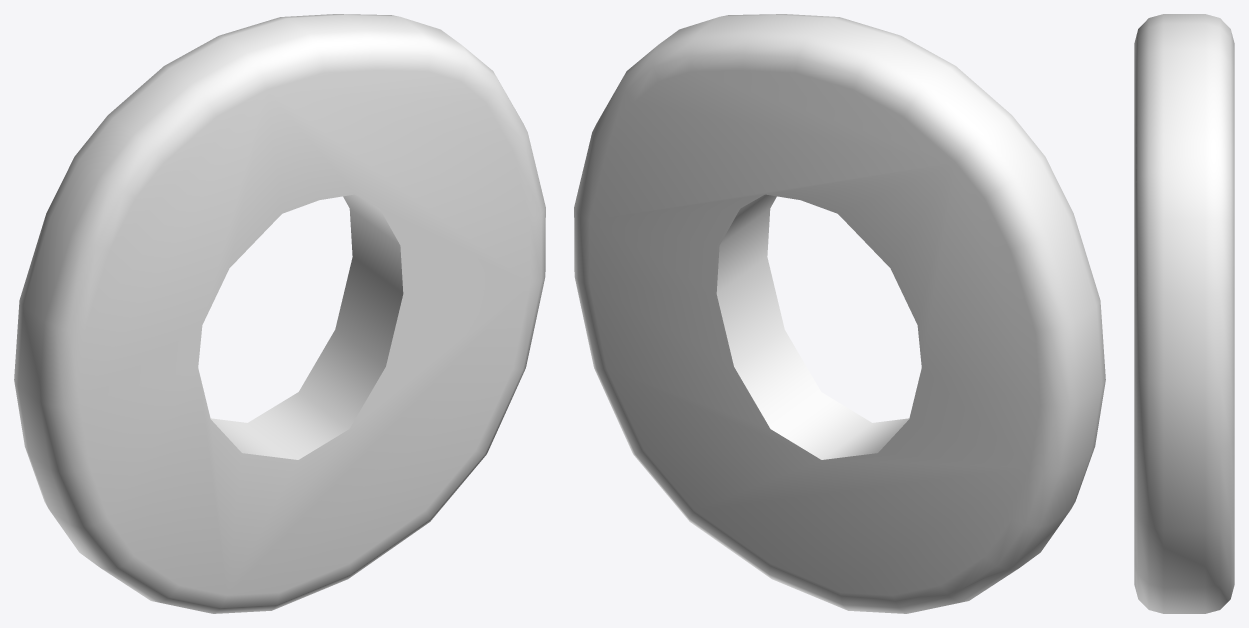
The model's file is NumberZero 2.fbx.
3 views of the same model, side by side, from view 1: azimuth 30°, elevation 25°; view 2: azimuth 150°, elevation 25°; view 3: azimuth 270°, elevation 25° (orthographic).
Visible parts, largest first — view 1: Vert.022; view 2: Vert.022; view 3: Vert.022.
Part boxes in pixels (x1=…): Vert.022: x1=14, y1=14, x2=545, y2=613; Vert.022: x1=574, y1=14, x2=1105, y2=613; Vert.022: x1=1134, y1=14, x2=1234, y2=613.
Size of the model in its own units: 398 by 427 by 69.56.
